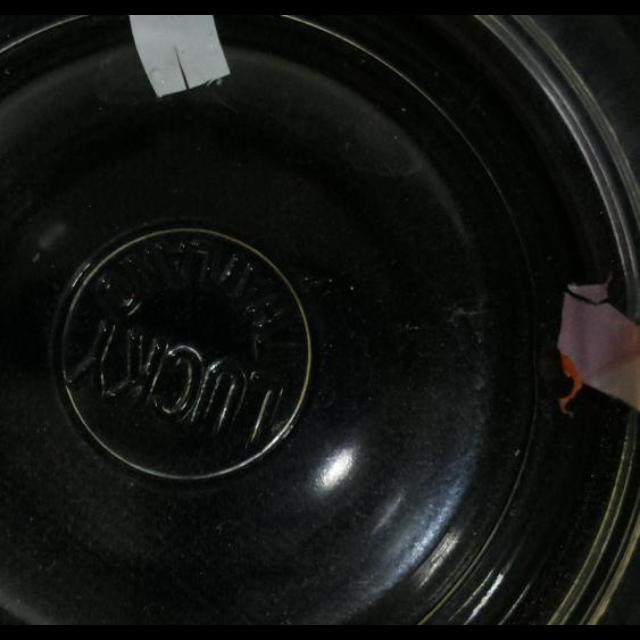Fragment: (558, 283, 638, 413), (125, 15, 231, 97)
